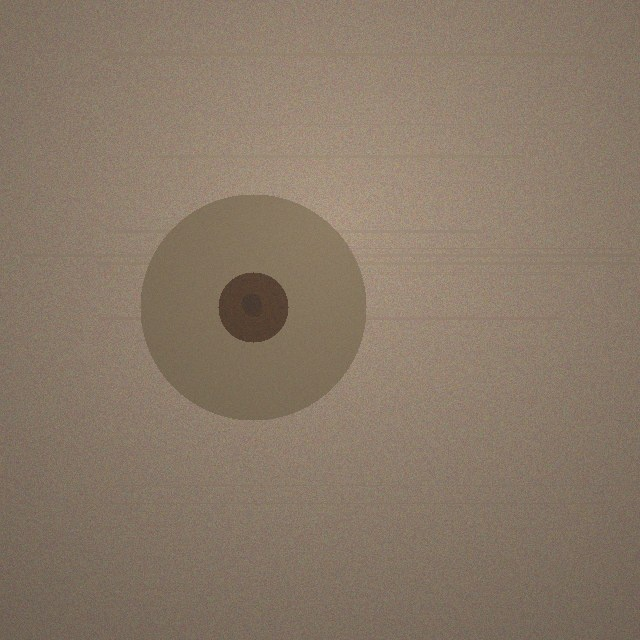cold_weld: (140, 194, 366, 420)
